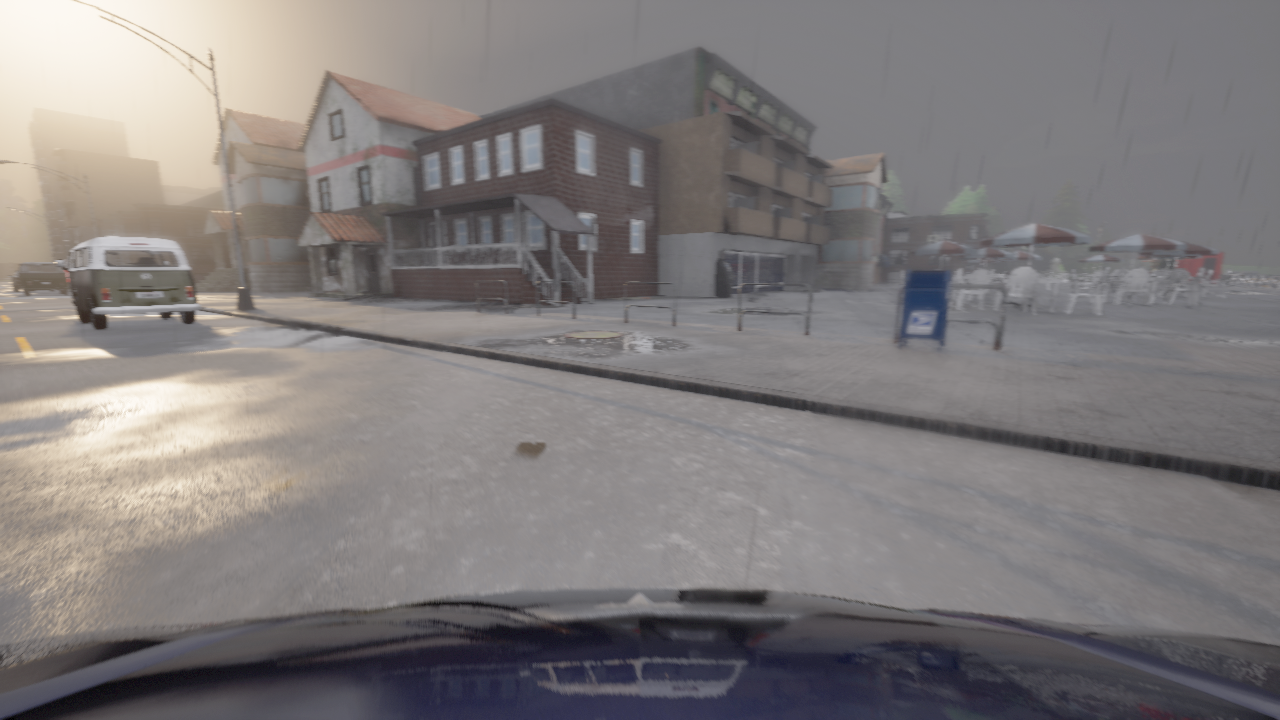cyclist: (0, 588, 1279, 719), (55, 237, 200, 329), (15, 262, 69, 295), (8, 272, 20, 291)
